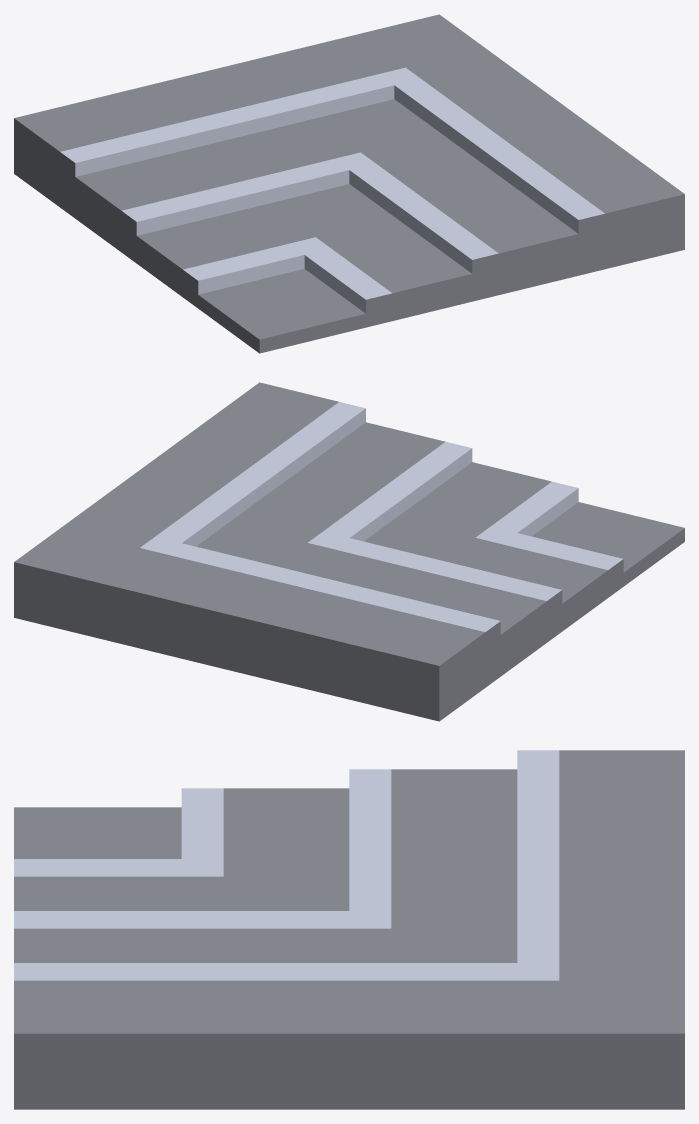
The picture shows the model from 3 angles, top to bottom: view 1: azimuth 30°, elevation 25°; view 2: azimuth 150°, elevation 25°; view 3: azimuth 270°, elevation 25°; orthographic projection. The views are drawn at different scales.
Parts seen in each view (by area): view 1: object_018; view 2: object_018; view 3: object_018.
Boxes of the visible parts, bbox=[...] form: object_018: bbox=[14, 14, 684, 353]; object_018: bbox=[14, 382, 684, 721]; object_018: bbox=[14, 750, 684, 1109].
Size of the model in its own units: 10 by 1.25 by 10.
